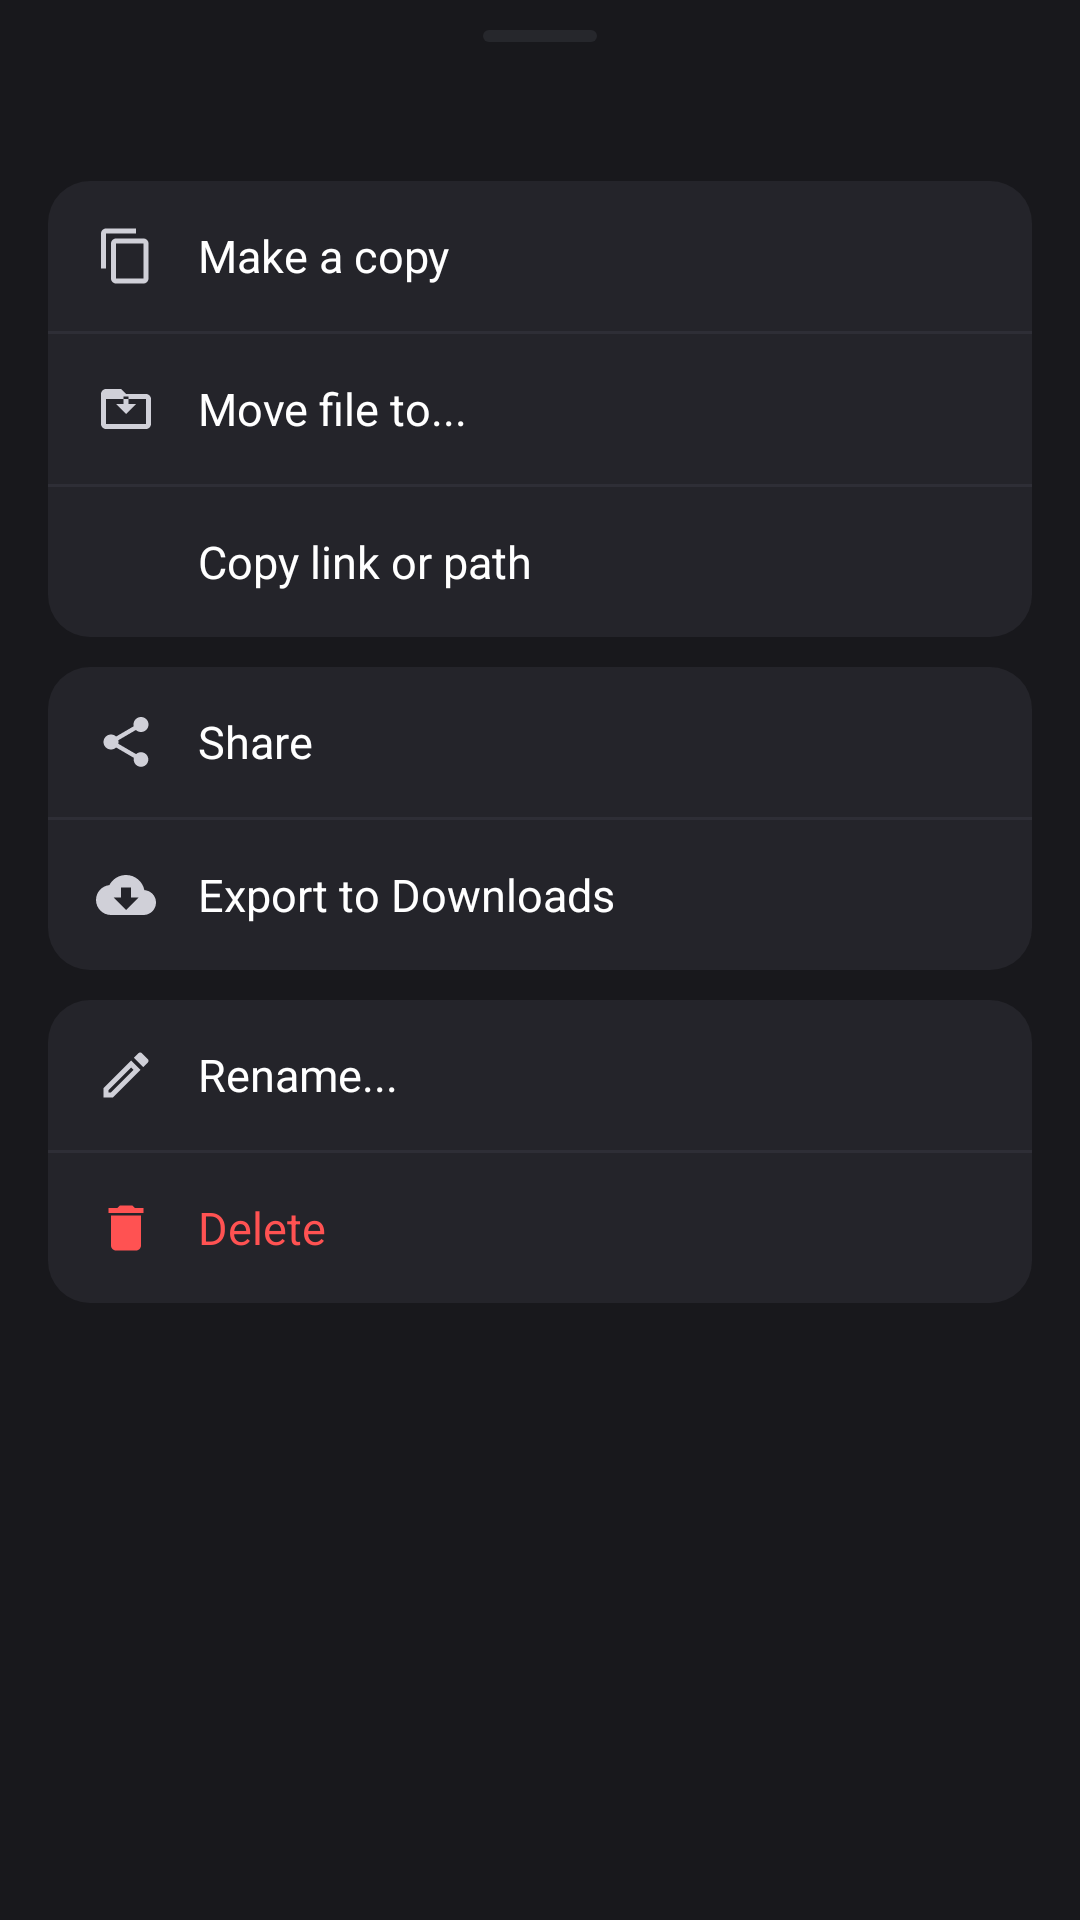

Locate icon controls on the screen. Image size 1080px×1920px, boxes as (x1, y1, x2, y2).
drive file move: (101, 389, 151, 429)
file download: (96, 875, 156, 915)
